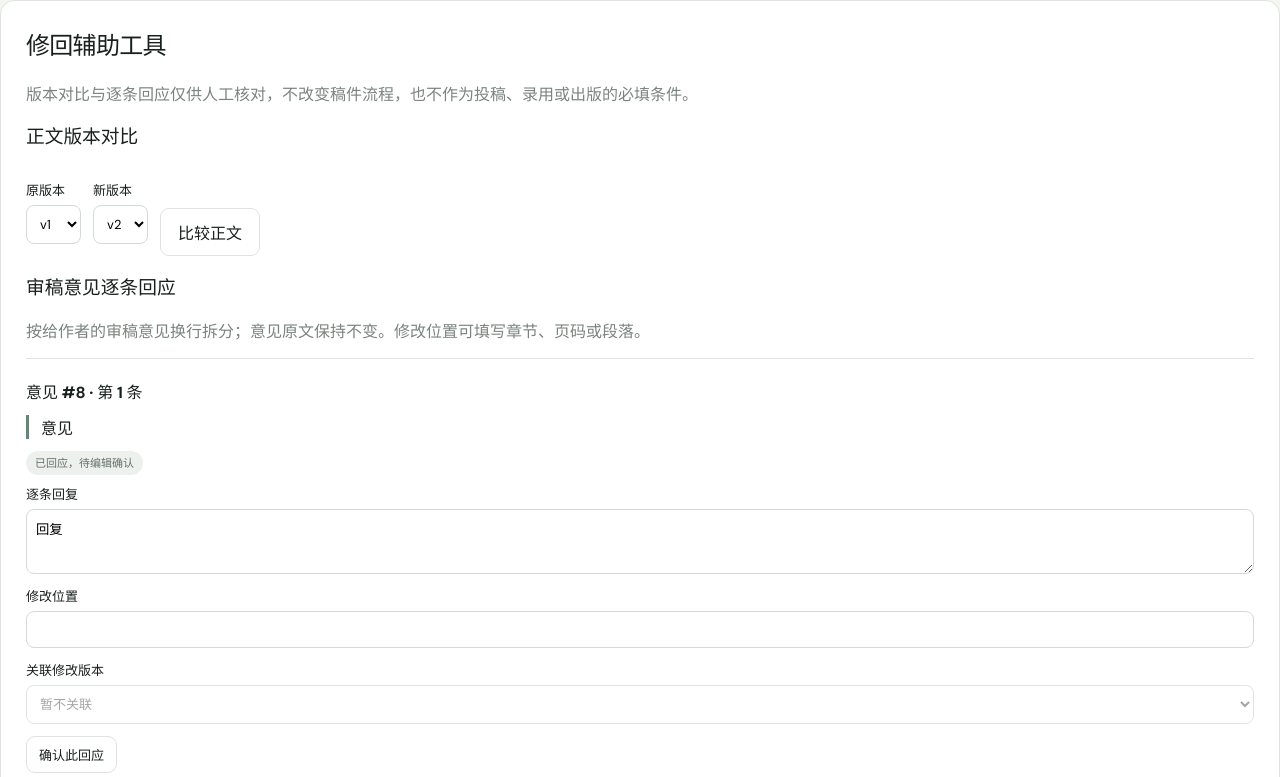
it: keeps a failed editor confirmation visible without reporting success
Click the button "确认此回应".
click(72, 755)  # box [26,736,117,773]
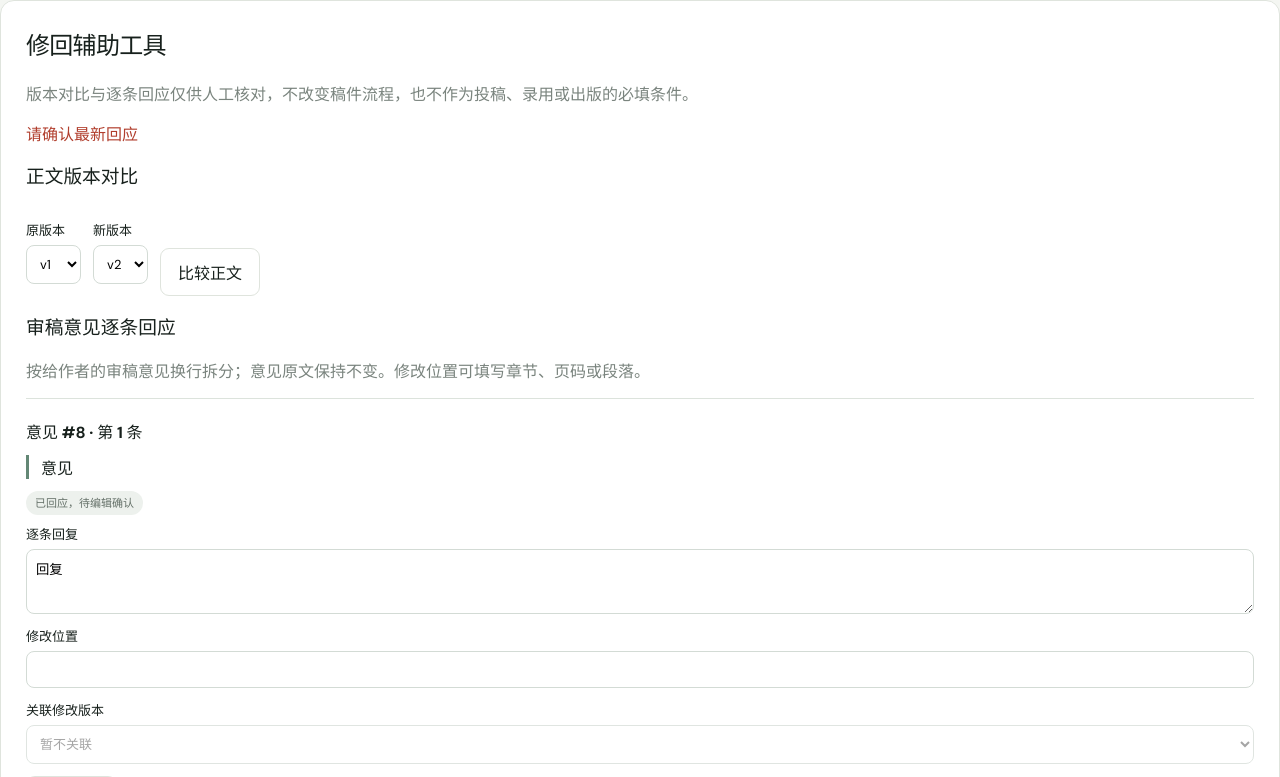
Expected: the message "请确认最新回应" is shown, [26,124,138,145]
